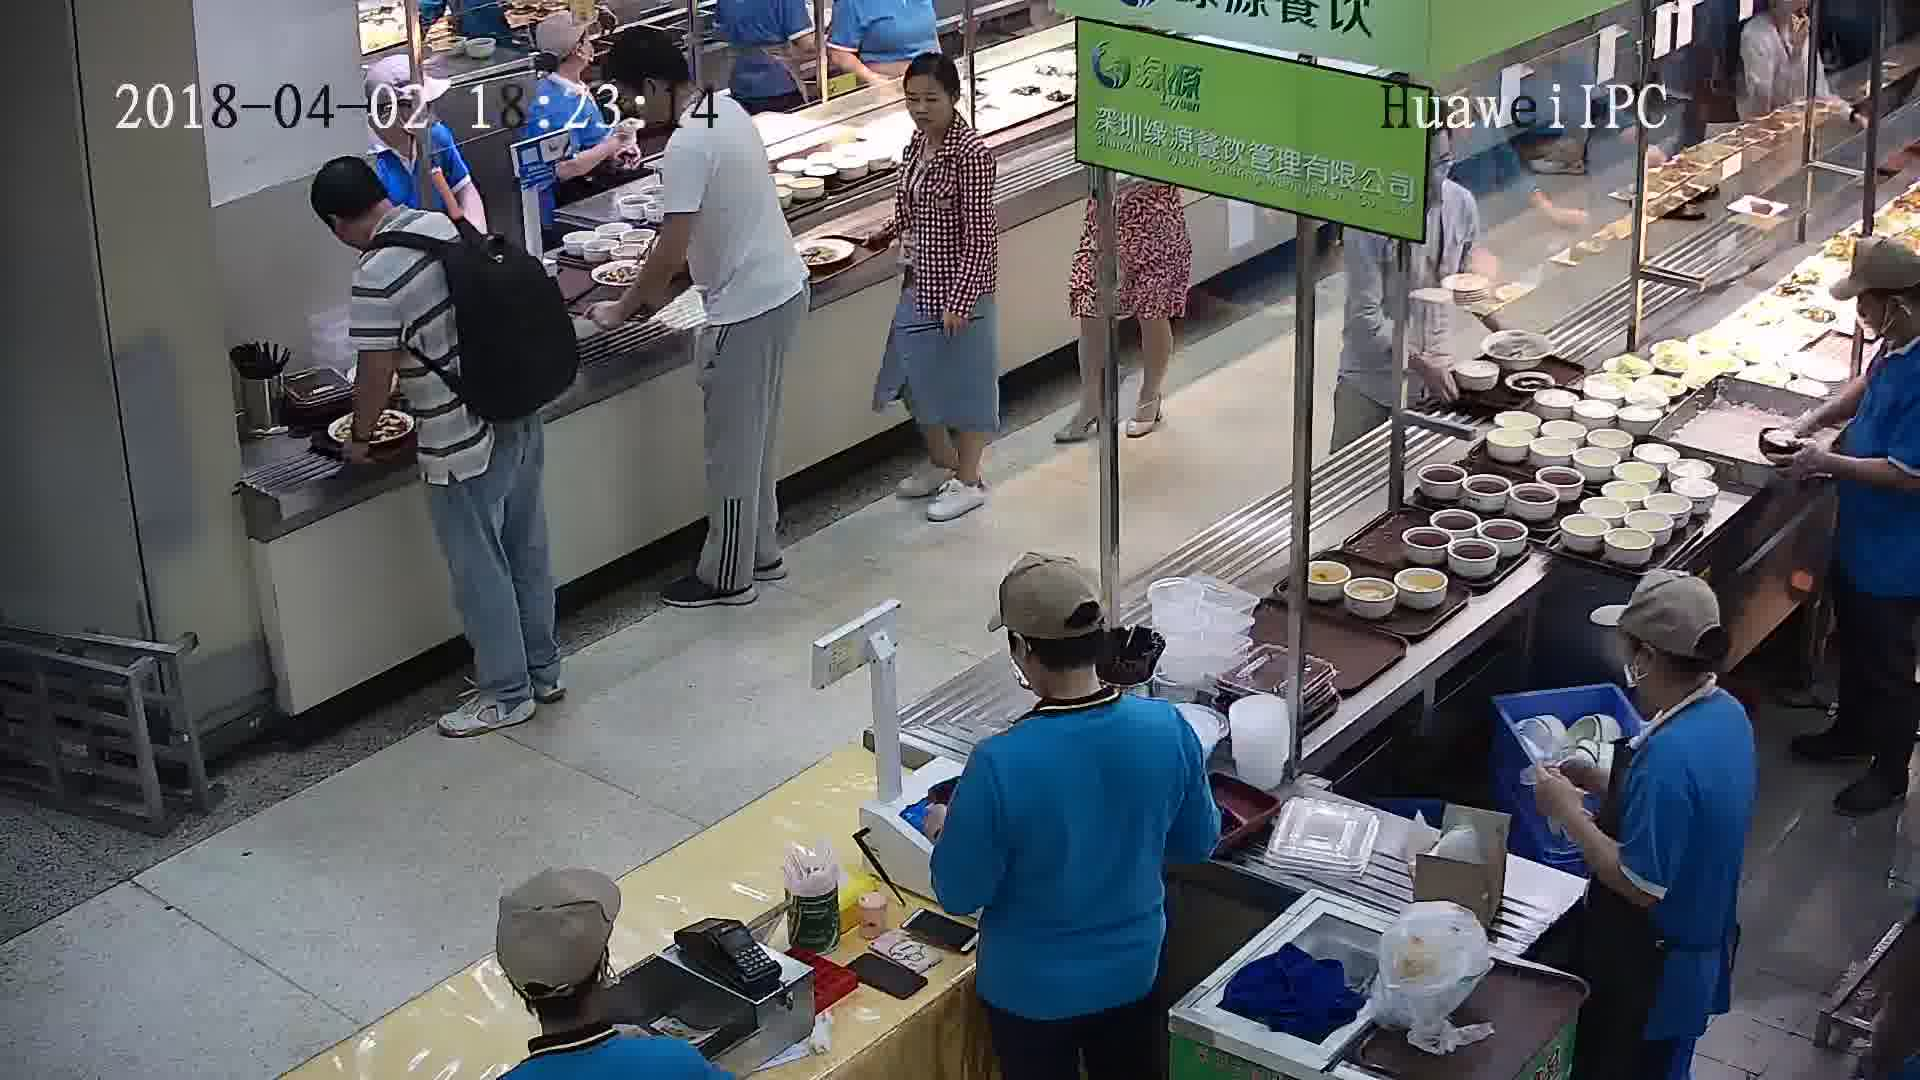face: (898, 73, 956, 131)
person: (964, 561, 1197, 803), (469, 861, 721, 1079), (1603, 570, 1761, 790), (606, 24, 756, 176), (308, 154, 461, 292), (1353, 102, 1475, 235), (887, 54, 995, 203), (1847, 236, 1919, 402), (365, 74, 452, 158), (536, 1, 591, 111), (1734, 1, 1826, 62)
